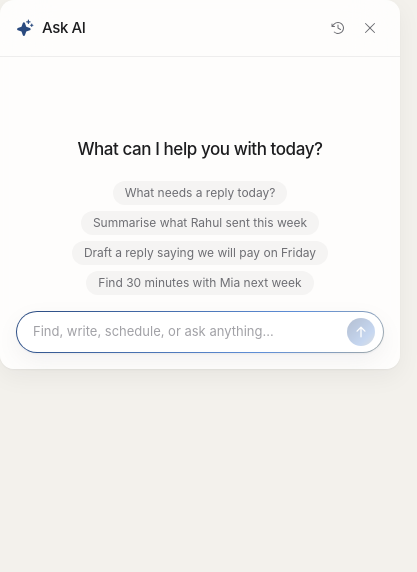
Test: AskPanel › edits a card before approval: the change is saved on the approval and becomes your own words
Press the mouse on the button named "Recent chats" at (338, 28), box [324,14,352,42]
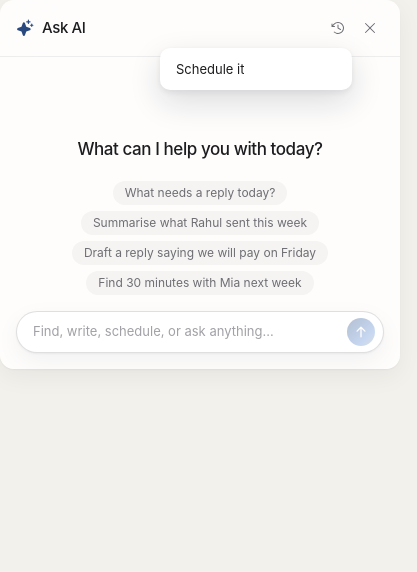
Click the menu item "Schedule it". click: (210, 69)
box: [176,61,244,77]
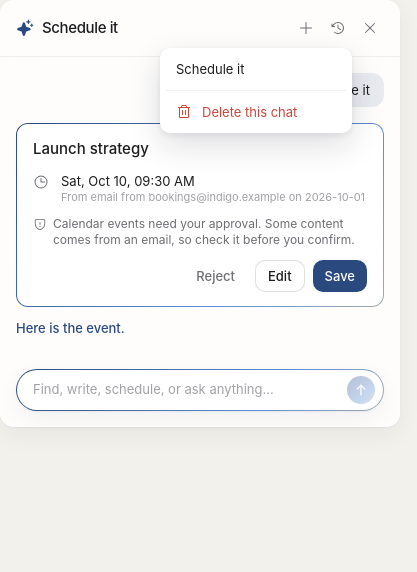
Click the button "Edit". click: (280, 276)
box: [255,260,305,292]
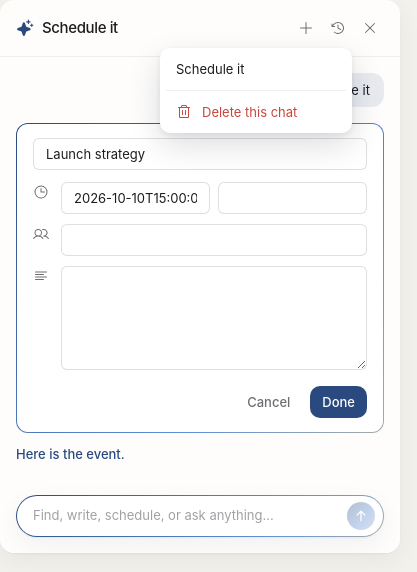
Expected: the button "Save" is gone
Replace the text in the field named "Title" with "Launch strategy sync". click: (200, 154)
box: [33,138,367,170]
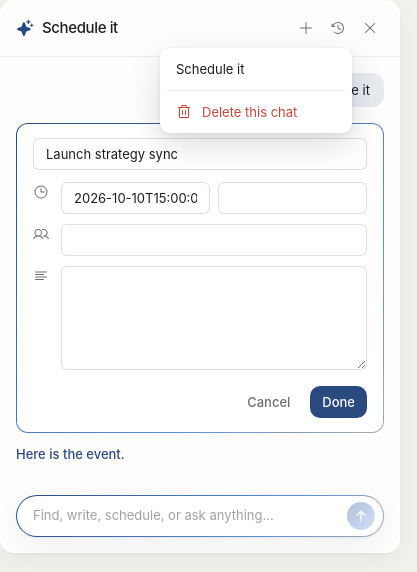
Click the button "Done". click: (339, 402)
box: [310,386,367,418]
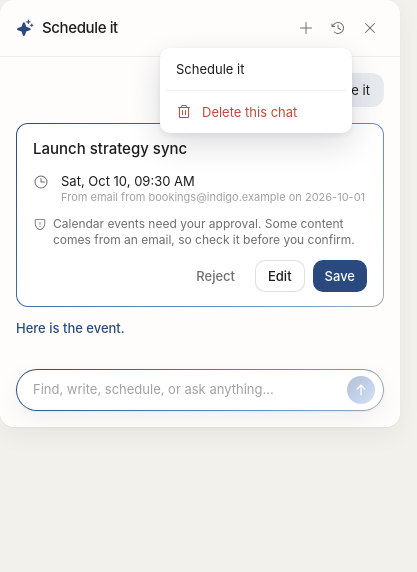
Expected: the heading "Launch strategy sync" is shown, [33,139,187,158]
Expected: the button "Save" is shown, [313,260,367,292]
